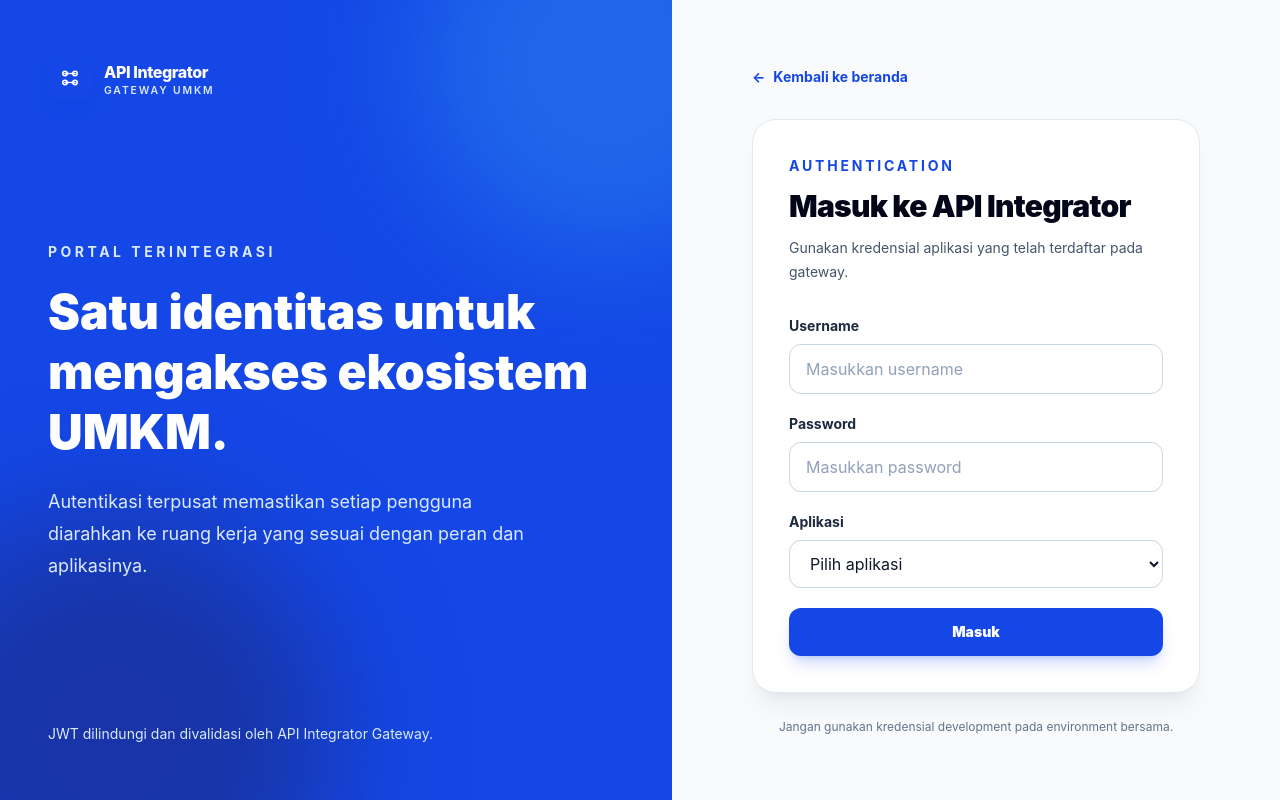
Scenario: Sprint 4 authentication frontend › shows a generic message for invalid credentials
This screenshot has width=1280, height=800.
Type "admin" into the field labelled "Username" at [976, 368], box [789, 344, 1163, 394]
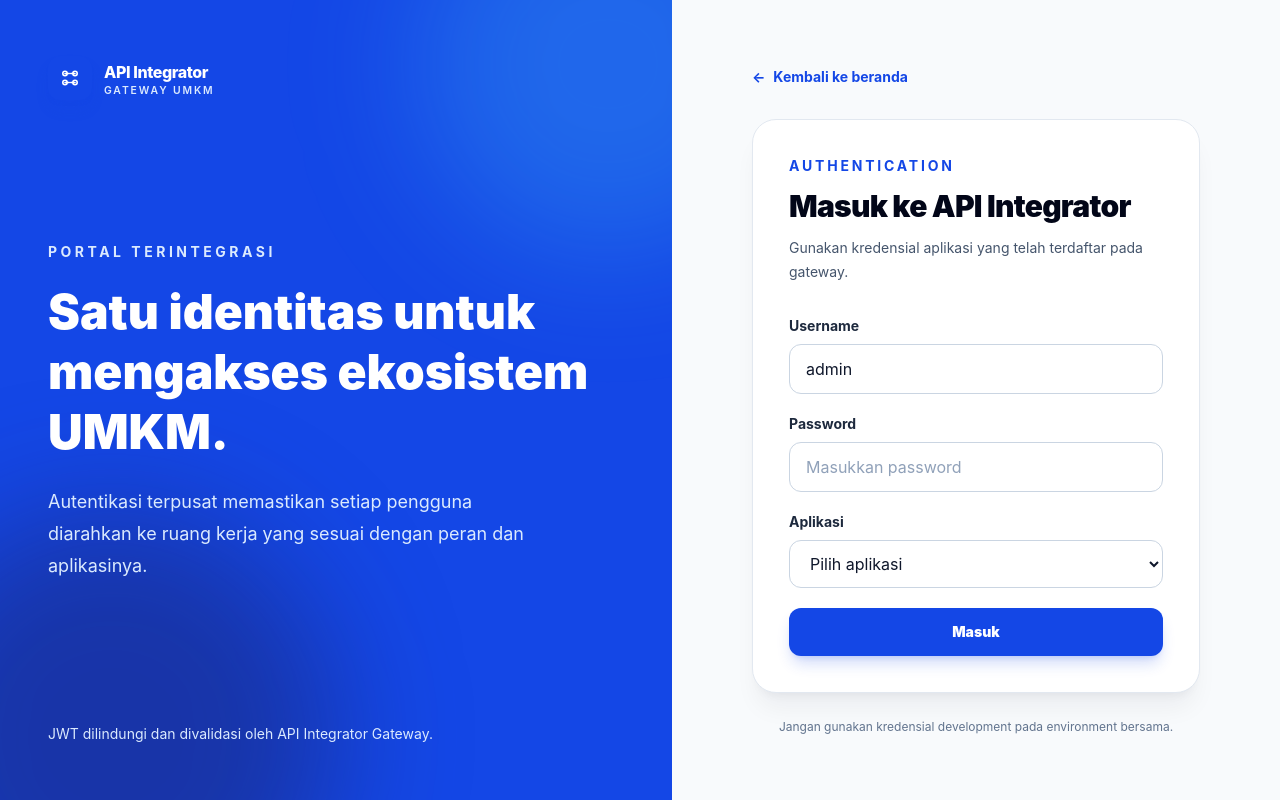
Type "wrong-password" into the password field labelled "Password" at [976, 466], box [789, 442, 1163, 492]
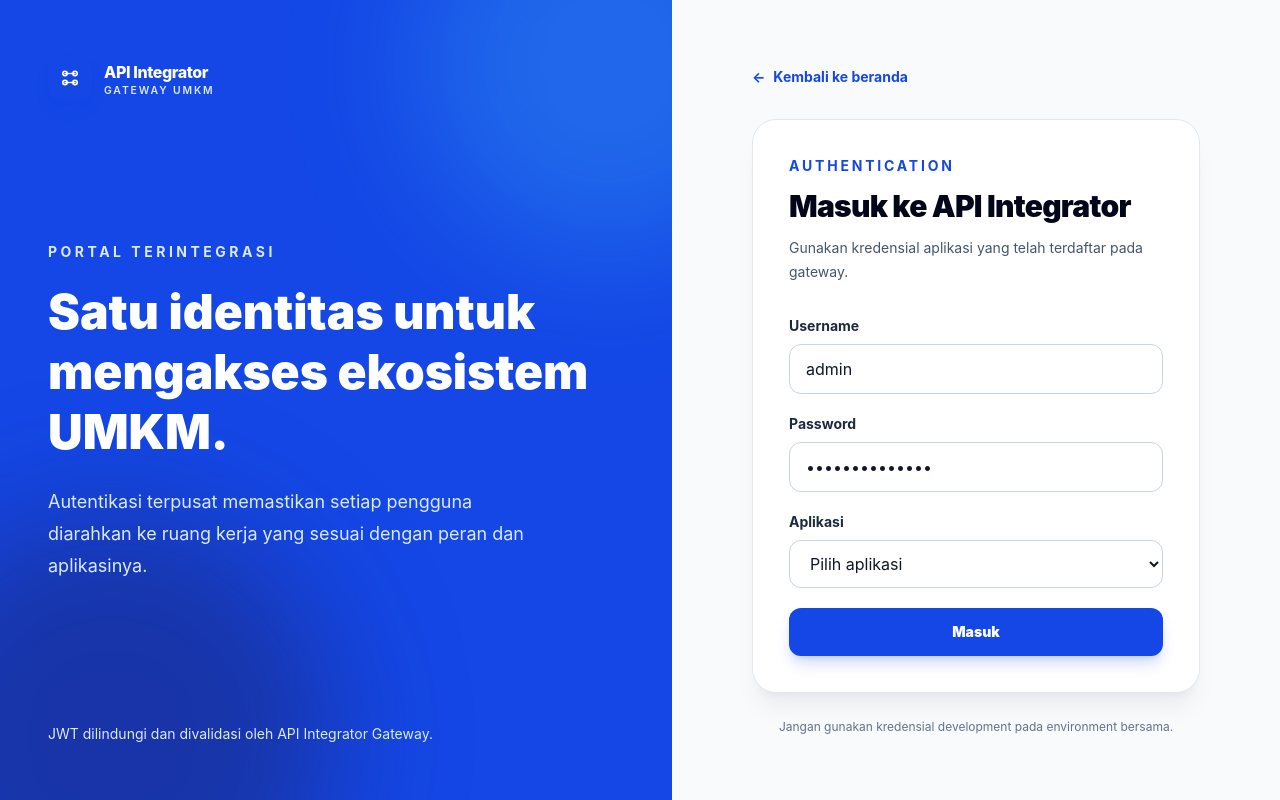
Select "API Gateway" in the dropdown labelled "Aplikasi" at [976, 564], box [789, 540, 1163, 588]
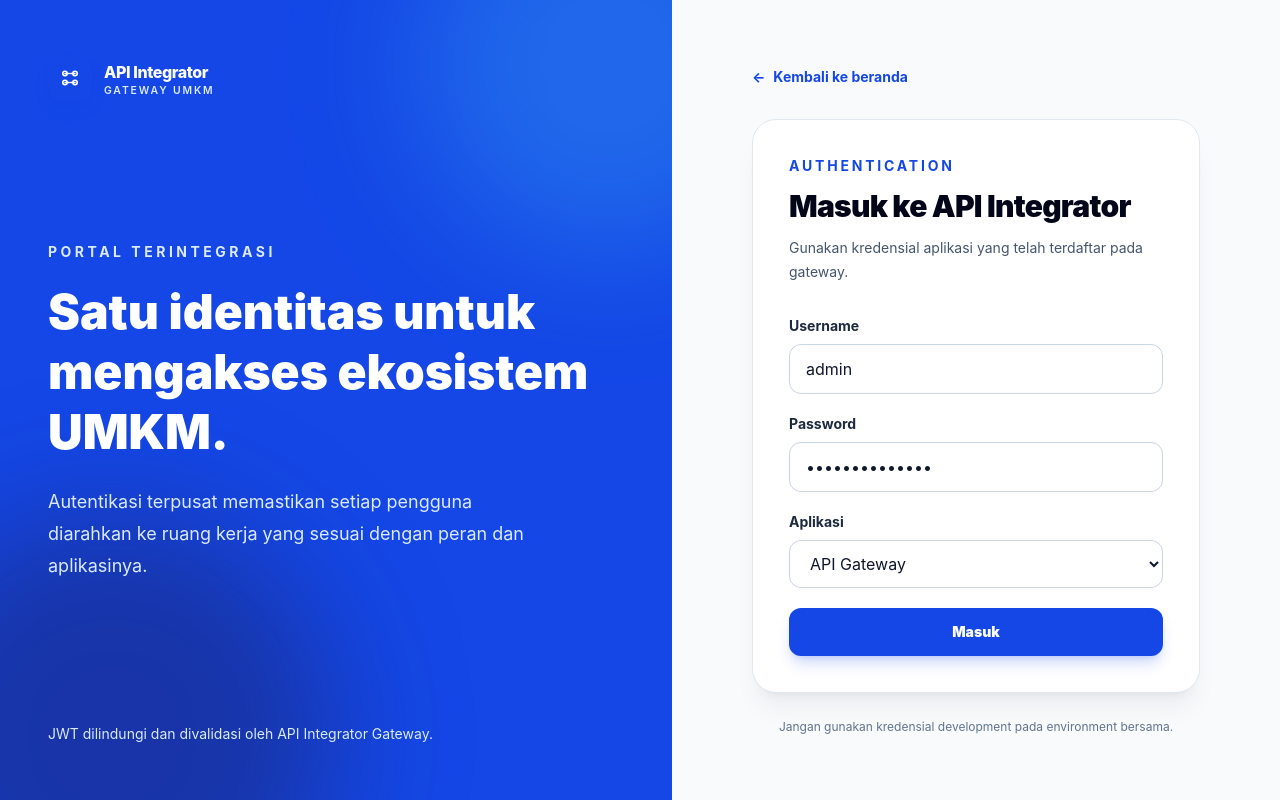
Click the button "Masuk" at [976, 632], box [789, 608, 1163, 656]
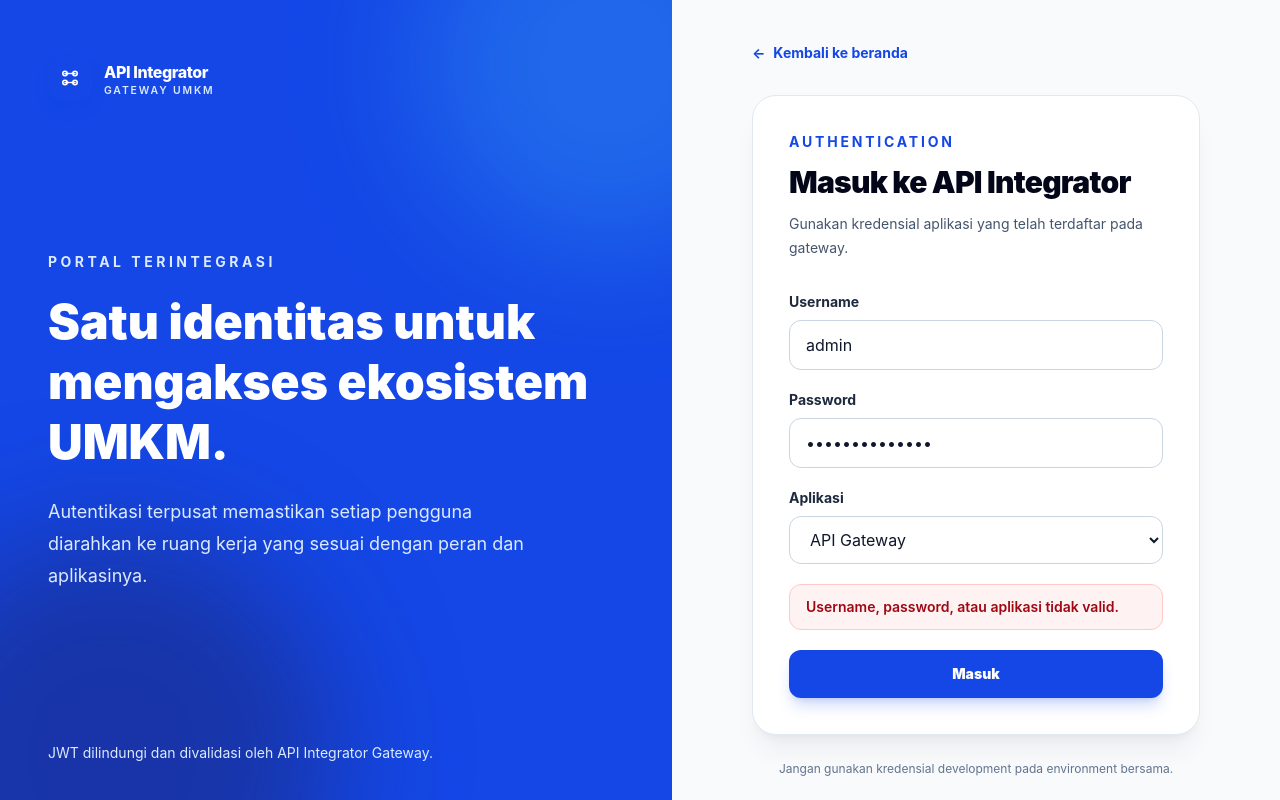
Result: the message reads "Username, password, atau aplikasi tidak valid." at [806, 598, 1119, 615]
